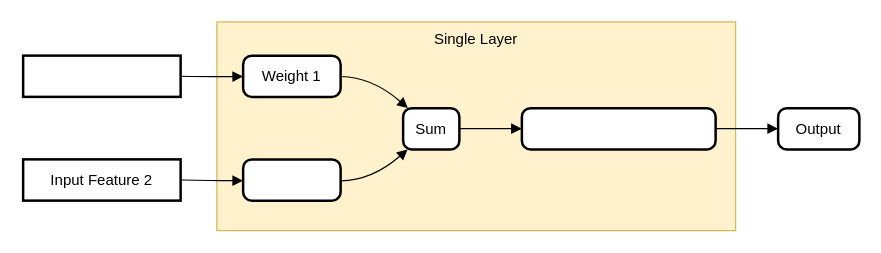
The diagram is 881 pixels wide and 253 high, and some of its shapes have lost their labels. The shapes that lost their labels are listed below. From the top down, each one's centre as x and y in pixels, then its label:
At (x=101, y=76): "Input Feature 1".
At (x=618, y=128): "Activation Function".
At (x=291, y=179): "Weight 2".
